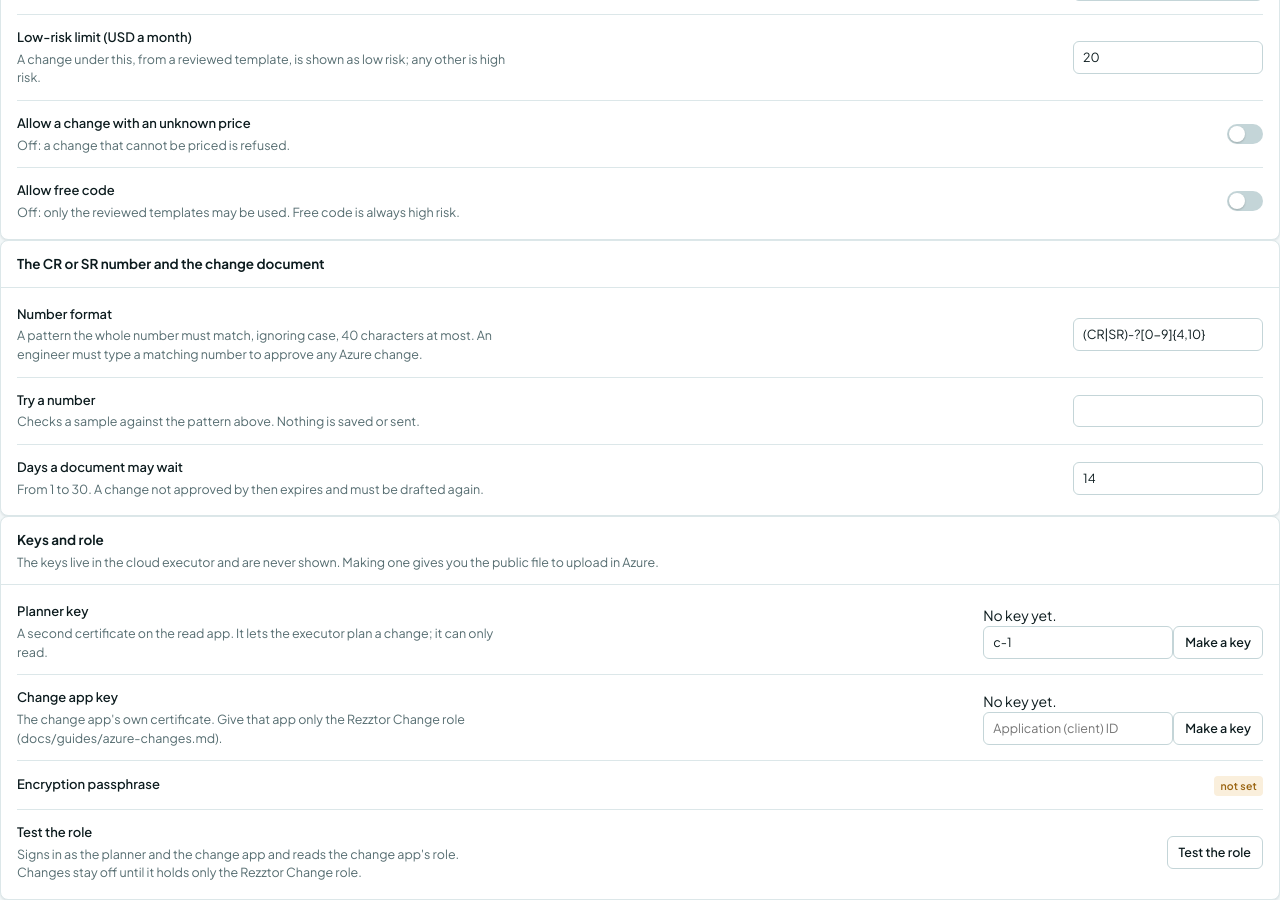
keys and the role test › shows verified when the role holds
(page scrolled)
Click the button "Test the role" at (1215, 852), box [1167,836,1263,869]
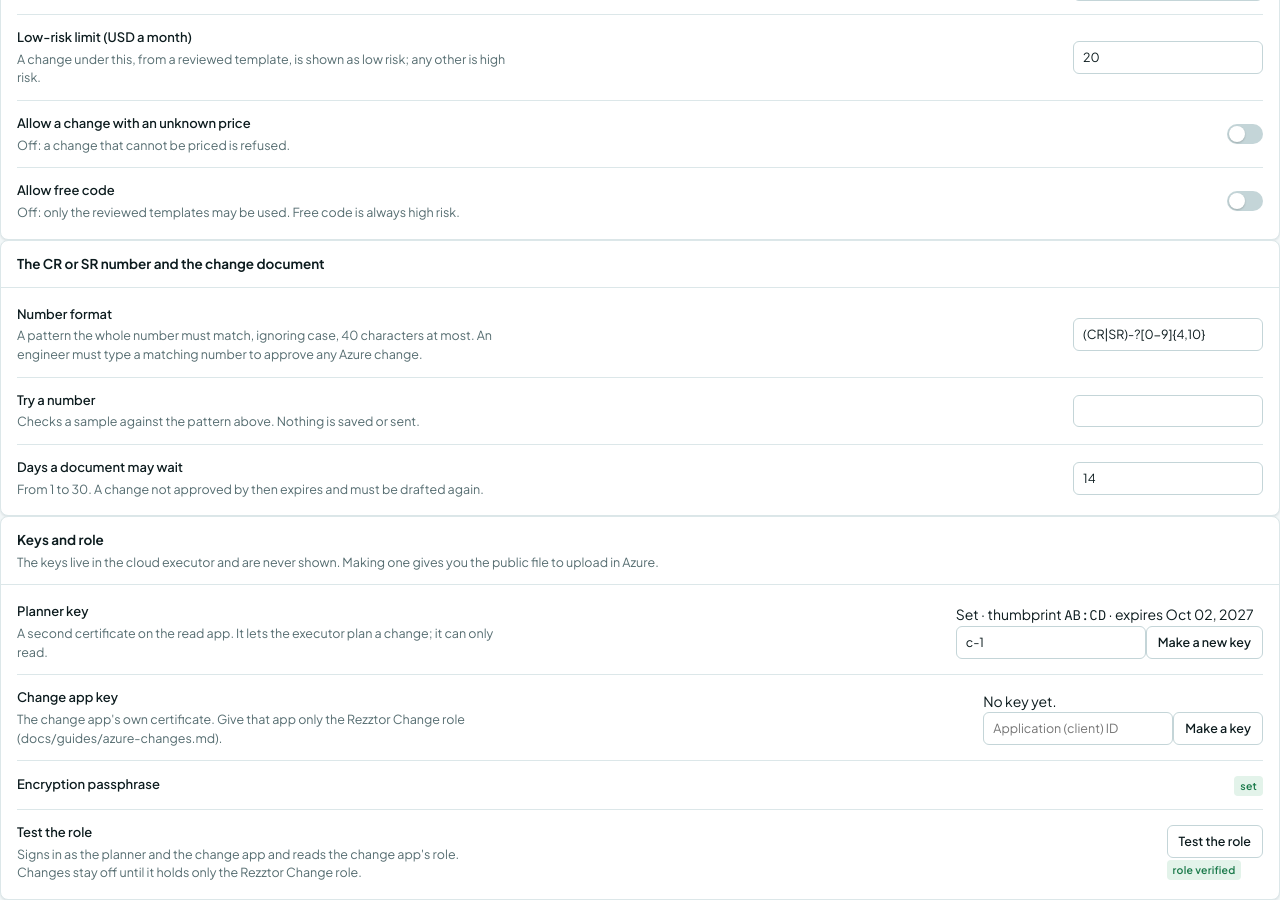
Result: the message with test id "role-result" reads "role verified" at [1173,863,1236,876]
